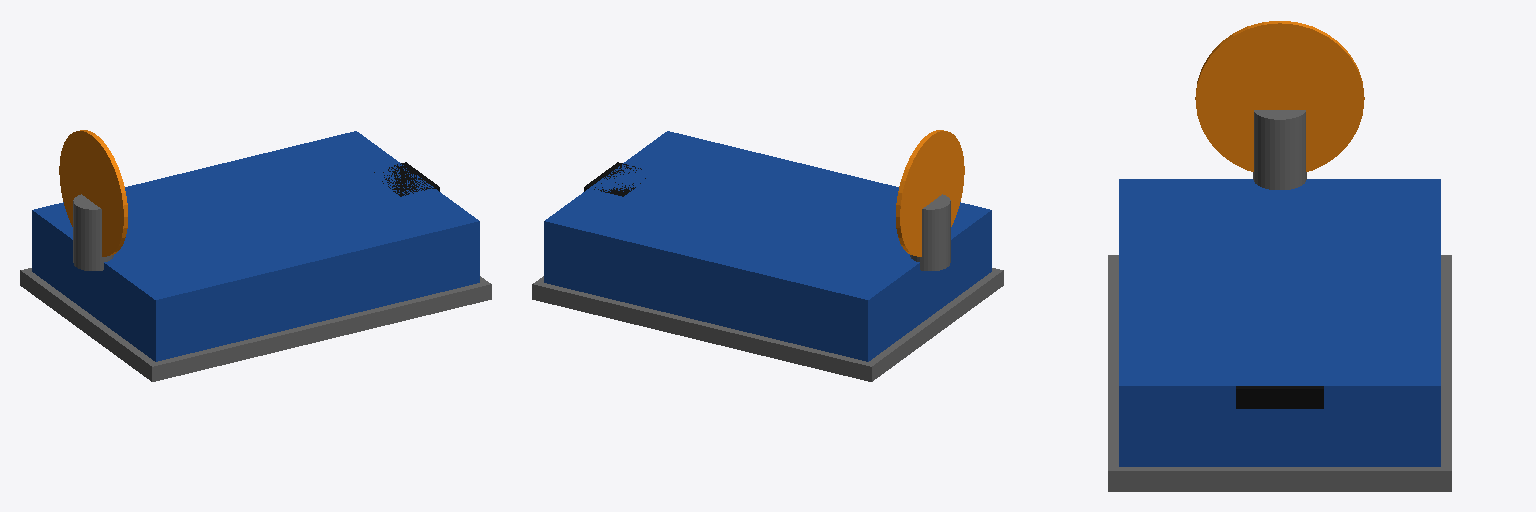
robot.urdf — hovercraft:
<?xml version="1.0" ?>
<robot name="hovercraft" xmlns:xacro="http://www.ros.org/wiki/xacro">

  <!-- ════════════════════════════════════════════════════════════
       Hovercraft URDF — Gazebo Digital Twin
       ════════════════════════════════════════════════════════════
       Chassis: 22 cm × 14.5 cm × 4 cm   Mass: 400 g
       Propulsion: 1700KV BLDC + 2-blade prop on servo gimbal
       Sensors: MPU-6050 IMU, ESP32-Cam (placeholder)
       Ground: µ = 0.01 (air-cushion approximation)
  -->

  <!-- ── Materials ─────────────────────────────────────────────── -->
  <material name="hull_blue">
    <color rgba="0.15 0.35 0.65 1.0"/>
  </material>
  <material name="mount_grey">
    <color rgba="0.45 0.45 0.45 1.0"/>
  </material>
  <material name="prop_orange">
    <color rgba="0.95 0.55 0.10 1.0"/>
  </material>
  <material name="cam_black">
    <color rgba="0.1 0.1 0.1 1.0"/>
  </material>

  <!-- ══════════════════════════════════════════════════════════════
       BASE LINK — Main Chassis
       ══════════════════════════════════════════════════════════════ -->
  <link name="base_link">
    <inertial>
      <mass value="0.4"/>
      <origin xyz="0 0 0.02" rpy="0 0 0"/>
      <!-- Inertia for a 0.22×0.145×0.04 m box at 0.4 kg -->
      <inertia ixx="0.000755" ixy="0" ixz="0"
               iyy="0.001653" iyz="0"
               izz="0.002140"/>
    </inertial>

    <visual>
      <origin xyz="0 0 0.02" rpy="0 0 0"/>
      <geometry>
        <box size="0.22 0.145 0.04"/>
      </geometry>
      <material name="hull_blue"/>
    </visual>

    <collision>
      <origin xyz="0 0 0.02" rpy="0 0 0"/>
      <geometry>
        <box size="0.22 0.145 0.04"/>
      </geometry>
    </collision>
  </link>

  <!-- Gazebo-specific: ultra-low friction to mimic air cushion -->
  <gazebo reference="base_link">
    <mu1>0.01</mu1>
    <mu2>0.01</mu2>
    <kp>1000000.0</kp>
    <kd>100.0</kd>
    <minDepth>0.001</minDepth>
    <maxVel>1.0</maxVel>
    <material>Gazebo/Blue</material>
  </gazebo>

  <!-- ══════════════════════════════════════════════════════════════
       SKIRT LINK — Hover Skirt (visual only, fixed to chassis)
       ══════════════════════════════════════════════════════════════ -->
  <link name="skirt_link">
    <inertial>
      <mass value="0.01"/>
      <origin xyz="0 0 -0.005" rpy="0 0 0"/>
      <inertia ixx="0.00001" ixy="0" ixz="0"
               iyy="0.00001" iyz="0"
               izz="0.00001"/>
    </inertial>
    <visual>
      <origin xyz="0 0 -0.005" rpy="0 0 0"/>
      <geometry>
        <box size="0.23 0.155 0.01"/>
      </geometry>
      <material name="mount_grey"/>
    </visual>
  </link>

  <joint name="skirt_joint" type="fixed">
    <parent link="base_link"/>
    <child link="skirt_link"/>
    <origin xyz="0 0 0" rpy="0 0 0"/>
  </joint>

  <!-- ══════════════════════════════════════════════════════════════
       THRUST MOUNT — Servo-Rotated Propulsion Pod
       ══════════════════════════════════════════════════════════════ -->
  <link name="thrust_mount">
    <inertial>
      <mass value="0.03"/>
      <origin xyz="-0.03 0 0.035" rpy="0 0 0"/>
      <inertia ixx="0.000002" ixy="0" ixz="0"
               iyy="0.000005" iyz="0"
               izz="0.000005"/>
    </inertial>

    <visual>
      <origin xyz="-0.03 0 0.035" rpy="0 0 0"/>
      <geometry>
        <cylinder radius="0.012" length="0.04"/>
      </geometry>
      <material name="mount_grey"/>
    </visual>

    <collision>
      <origin xyz="-0.03 0 0.035" rpy="0 0 0"/>
      <geometry>
        <cylinder radius="0.012" length="0.04"/>
      </geometry>
    </collision>
  </link>

  <!-- Servo joint: rotates the thrust mount 0°–180° around Z-axis -->
  <joint name="servo_joint" type="revolute">
    <parent link="base_link"/>
    <child link="thrust_mount"/>
    <origin xyz="-0.08 0 0.02" rpy="0 0 0"/>
    <axis xyz="0 0 1"/>
    <limit lower="0" upper="3.14159" effort="1.5" velocity="6.28"/>
    <dynamics damping="0.01" friction="0.005"/>
  </joint>

  <gazebo reference="thrust_mount">
    <material>Gazebo/Grey</material>
  </gazebo>

  <!-- ══════════════════════════════════════════════════════════════
       PROPELLER — 2-Blade Prop (visual disc + LiftDrag)
       ══════════════════════════════════════════════════════════════ -->
  <link name="propeller_link">
    <inertial>
      <mass value="0.005"/>
      <origin xyz="0 0 0" rpy="0 0 0"/>
      <inertia ixx="0.0000005" ixy="0" ixz="0"
               iyy="0.0000005" iyz="0"
               izz="0.000001"/>
    </inertial>

    <visual>
      <origin xyz="0 0 0" rpy="0 1.5708 0"/>
      <geometry>
        <cylinder radius="0.038" length="0.003"/>
      </geometry>
      <material name="prop_orange"/>
    </visual>

    <collision>
      <origin xyz="0 0 0" rpy="0 1.5708 0"/>
      <geometry>
        <cylinder radius="0.038" length="0.003"/>
      </geometry>
    </collision>
  </link>

  <!-- Propeller spins freely (continuous) on the thrust mount -->
  <joint name="prop_joint" type="continuous">
    <parent link="thrust_mount"/>
    <child link="propeller_link"/>
    <origin xyz="-0.03 0 0.06" rpy="0 0 0"/>
    <axis xyz="1 0 0"/>
    <dynamics damping="0.0001"/>
  </joint>

  <gazebo reference="propeller_link">
    <material>Gazebo/Orange</material>
  </gazebo>

  <!-- ══════════════════════════════════════════════════════════════
       CAMERA MOUNT — ESP32-Cam Placeholder
       ══════════════════════════════════════════════════════════════ -->
  <link name="camera_link">
    <inertial>
      <mass value="0.01"/>
      <origin xyz="0 0 0" rpy="0 0 0"/>
      <inertia ixx="0.000001" ixy="0" ixz="0"
               iyy="0.000001" iyz="0"
               izz="0.000001"/>
    </inertial>

    <visual>
      <origin xyz="0 0 0" rpy="0 0 0"/>
      <geometry>
        <box size="0.027 0.040 0.010"/>
      </geometry>
      <material name="cam_black"/>
    </visual>
  </link>

  <joint name="camera_joint" type="fixed">
    <parent link="base_link"/>
    <child link="camera_link"/>
    <!-- Mounted at the front of the chassis, looking forward -->
    <origin xyz="0.10 0 0.035" rpy="0 0 0"/>
  </joint>

  <!-- ══════════════════════════════════════════════════════════════
       IMU LINK — MPU-6050 Sensor Frame
       ══════════════════════════════════════════════════════════════ -->
  <link name="imu_link">
    <inertial>
      <mass value="0.002"/>
      <origin xyz="0 0 0" rpy="0 0 0"/>
      <inertia ixx="0.0000001" ixy="0" ixz="0"
               iyy="0.0000001" iyz="0"
               izz="0.0000001"/>
    </inertial>
  </link>

  <joint name="imu_joint" type="fixed">
    <parent link="base_link"/>
    <child link="imu_link"/>
    <origin xyz="0 0 0.02" rpy="0 0 0"/>
  </joint>

  <!-- ══════════════════════════════════════════════════════════════
       GAZEBO PLUGINS
       ══════════════════════════════════════════════════════════════ -->

  <!-- ── IMU Sensor (replaces MPU-6050) ────────────────────────── -->
  <gazebo reference="imu_link">
    <sensor name="imu_sensor" type="imu">
      <always_on>true</always_on>
      <update_rate>100</update_rate>
      <imu>
        <angular_velocity>
          <x><noise type="gaussian">
            <mean>0.0</mean><stddev>0.0002</stddev>
          </noise></x>
          <y><noise type="gaussian">
            <mean>0.0</mean><stddev>0.0002</stddev>
          </noise></y>
          <z><noise type="gaussian">
            <mean>0.0</mean><stddev>0.0002</stddev>
          </noise></z>
        </angular_velocity>
        <linear_acceleration>
          <x><noise type="gaussian">
            <mean>0.0</mean><stddev>0.017</stddev>
          </noise></x>
          <y><noise type="gaussian">
            <mean>0.0</mean><stddev>0.017</stddev>
          </noise></y>
          <z><noise type="gaussian">
            <mean>0.0</mean><stddev>0.017</stddev>
          </noise></z>
        </linear_acceleration>
      </imu>
      <plugin name="imu_plugin" filename="libgazebo_ros_imu_sensor.so">
        <ros>
          <namespace>/hovercraft</namespace>
          <remapping>~/out:=imu</remapping>
        </ros>
        <initial_orientation_as_reference>false</initial_orientation_as_reference>
      </plugin>
    </sensor>
  </gazebo>

  <!-- ── Camera Sensor (replaces ESP32-Cam) ────────────────────── -->
  <gazebo reference="camera_link">
    <sensor name="camera_sensor" type="camera">
      <always_on>true</always_on>
      <update_rate>15</update_rate>
      <camera>
        <horizontal_fov>1.3962634</horizontal_fov>
        <image>
          <width>160</width>
          <height>120</height>
          <format>R8G8B8</format>
        </image>
        <clip>
          <near>0.05</near>
          <far>8.0</far>
        </clip>
      </camera>
      <plugin name="camera_plugin" filename="libgazebo_ros_camera.so">
        <ros>
          <namespace>/hovercraft</namespace>
          <remapping>~/image_raw:=camera/image_raw</remapping>
          <remapping>~/camera_info:=camera/camera_info</remapping>
        </ros>
        <camera_name>esp32_cam</camera_name>
        <frame_name>camera_link</frame_name>
      </plugin>
    </sensor>
  </gazebo>

  <!-- ── LiftDrag Plugin (models 1700KV 2-blade propulsion) ───── -->
  <!--
       CL/CD curves approximated for a 76 mm (3") 2-blade prop
       at 1700KV on 2S LiPo (~12 600 RPM no-load).
       a0 = 0.3 rad  (angle of zero lift)
       cla = 4.75     (lift-curve slope per rad)
       cda = 0.025    (parasitic drag coeff)
       area = 0.0045 m²  (swept disc area ≈ π·0.038²)
       air_density = 1.225 kg/m³
  -->
  <gazebo>
    <plugin name="prop_lift_drag" filename="libLiftDragPlugin.so">
      <a0>0.3</a0>
      <cla>4.75</cla>
      <cda>0.025</cda>
      <cma>0.0</cma>
      <alpha_stall>0.35</alpha_stall>
      <cla_stall>-0.2</cla_stall>
      <cda_stall>1.0</cda_stall>
      <cma_stall>0.0</cma_stall>
      <cp>-0.03 0 0.06</cp>
      <area>0.0045</area>
      <air_density>1.225</air_density>
      <forward>1 0 0</forward>
      <upward>0 0 1</upward>
      <link_name>thrust_mount</link_name>
    </plugin>
  </gazebo>

  <!-- ── Joint State Publisher (for servo feedback) ────────────── -->
  <gazebo>
    <plugin name="joint_state_pub" filename="libgazebo_ros_joint_state_publisher.so">
      <ros>
        <namespace>/hovercraft</namespace>
        <remapping>~/out:=joint_states</remapping>
      </ros>
      <update_rate>50</update_rate>
      <joint_name>servo_joint</joint_name>
      <joint_name>prop_joint</joint_name>
    </plugin>
  </gazebo>

</robot>

--- Facts derived from the render (not from the file) ---
Views: 3 orthographic renders of the robot side by side, from view 1: azimuth 30°, elevation 25°; view 2: azimuth 150°, elevation 25°; view 3: azimuth 270°, elevation 25°.
Model hovercraft with 6 links and 5 joints (1 revolute, 1 continuous, 3 fixed), rooted at base_link, posed all joints at 0.
Visible links, largest first — view 1: base_link, skirt_link, propeller_link, thrust_mount, camera_link; view 2: base_link, skirt_link, propeller_link, thrust_mount; view 3: base_link, propeller_link, skirt_link, thrust_mount, camera_link.
Link boxes in pixels (<box>): base_link: <box>32,131,479,361</box>; skirt_link: <box>20,268,491,381</box>; propeller_link: <box>59,130,127,256</box>; thrust_mount: <box>73,194,113,270</box>; camera_link: <box>374,162,439,196</box>; base_link: <box>544,131,991,361</box>; skirt_link: <box>532,268,1003,381</box>; propeller_link: <box>896,130,964,256</box>; thrust_mount: <box>910,194,950,270</box>; base_link: <box>1119,179,1440,466</box>; propeller_link: <box>1195,21,1364,171</box>; skirt_link: <box>1108,255,1451,491</box>; thrust_mount: <box>1253,110,1306,189</box>; camera_link: <box>1236,386,1323,408</box>.
Size in the robot's own frame: 0.237 by 0.155 by 0.128 metres.
Geometry: primitives only (box / cylinder / sphere), no mesh files.
